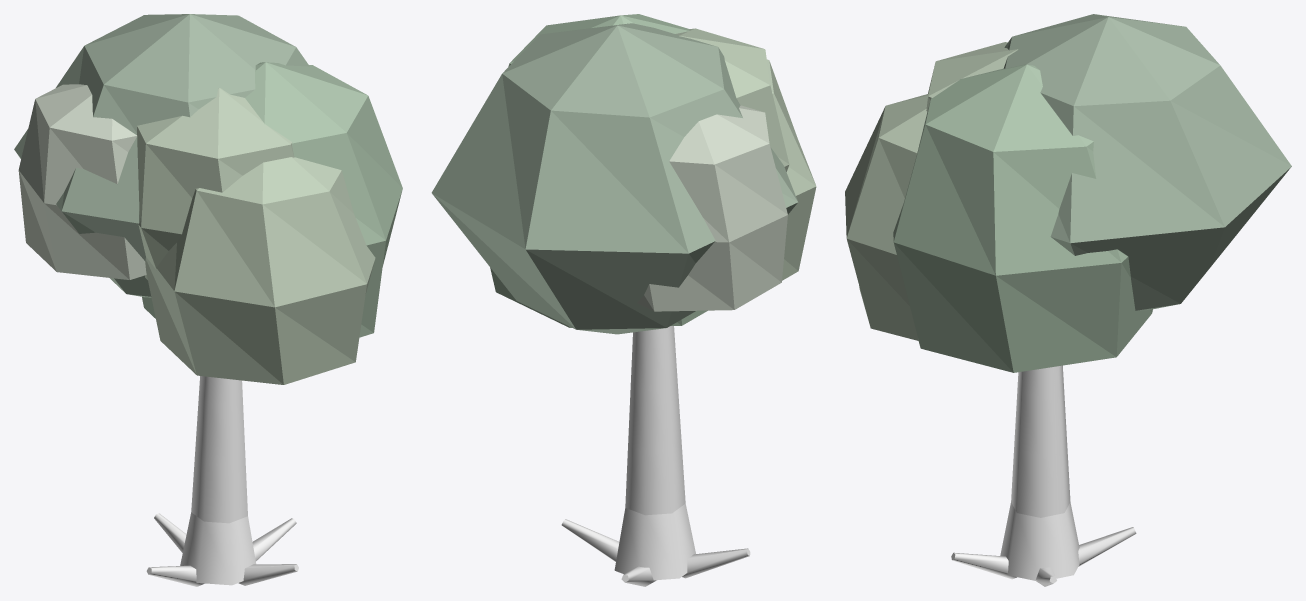
The model's file is tree_oak_3.glb.
The picture shows the model from 3 angles, left to right: view 1: azimuth 30°, elevation 25°; view 2: azimuth 150°, elevation 25°; view 3: azimuth 270°, elevation 25°; orthographic projection. The views are drawn at different scales.
Visible parts, largest first — view 1: Tree; view 2: Tree; view 3: Tree.
Boxes of the visible parts, <box> form: Tree: <box>14,14,402,586</box>; Tree: <box>431,14,816,586</box>; Tree: <box>845,14,1291,586</box>.
Size of the model in its own units: 4.2 by 6.95 by 5.05.
